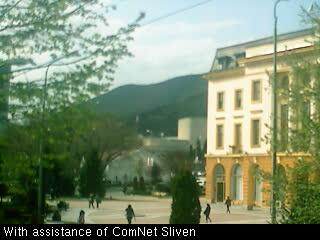person: (123, 204, 135, 224), (203, 203, 213, 222), (224, 195, 232, 213), (94, 193, 102, 208), (87, 192, 94, 208), (78, 209, 85, 224), (49, 186, 56, 201), (54, 187, 61, 200), (53, 209, 60, 221)
